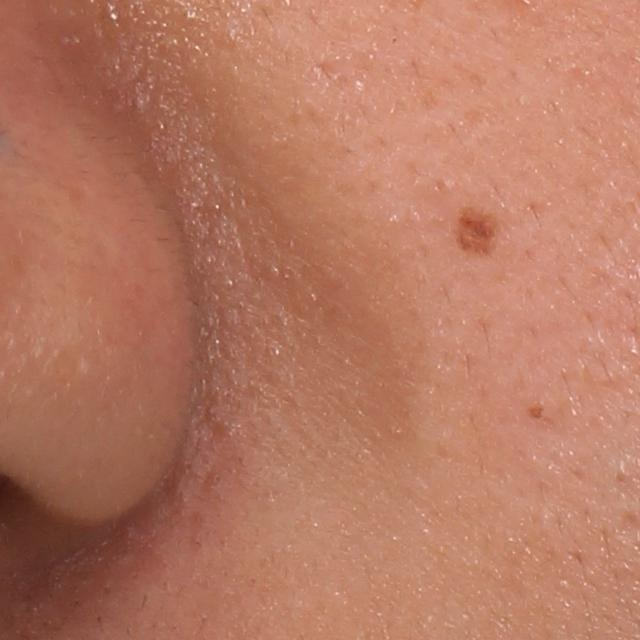comedo: (527, 402, 550, 424)
nevus: (447, 197, 496, 271)
